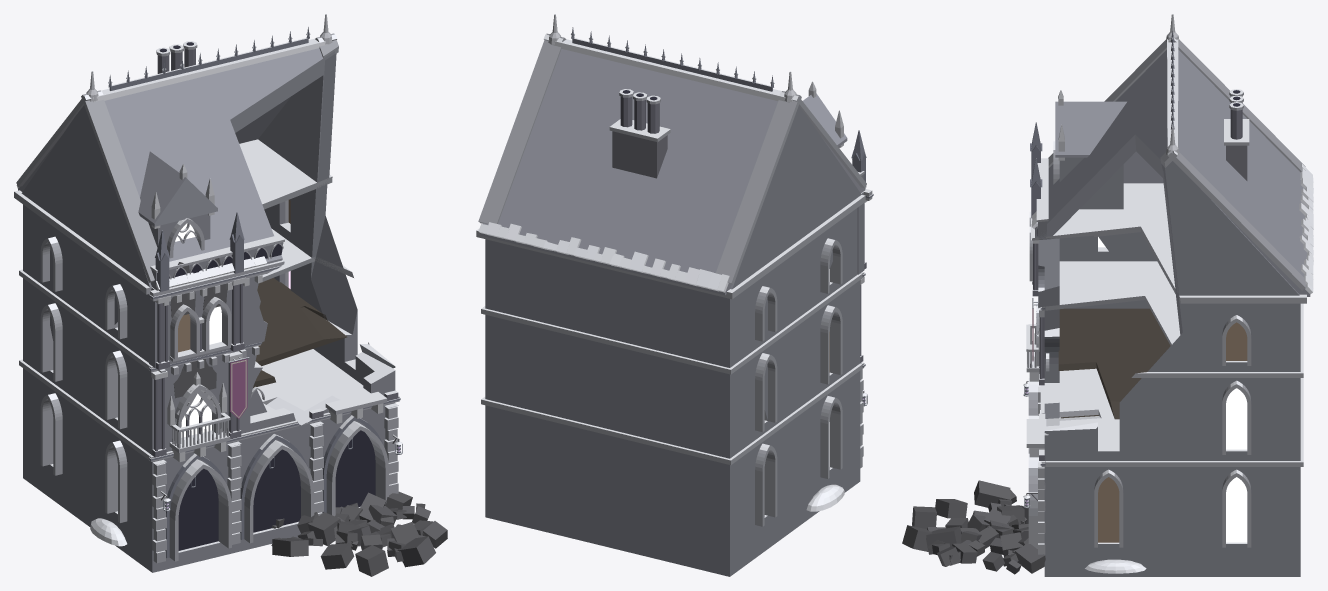
File: AR_Cidade_Arcada_Quebrada.fbx
3 views of the same model, side by side, from view 1: azimuth 30°, elevation 25°; view 2: azimuth 150°, elevation 25°; view 3: azimuth 270°, elevation 25° (orthographic).
Parts seen in each view (by area): view 1: AR_Cidade_Arcada_Quebrada; view 2: AR_Cidade_Arcada_Quebrada; view 3: AR_Cidade_Arcada_Quebrada.
Part boxes in pixels (x1=…): AR_Cidade_Arcada_Quebrada: x1=14, y1=14, x2=447, y2=576; AR_Cidade_Arcada_Quebrada: x1=476, y1=14, x2=873, y2=576; AR_Cidade_Arcada_Quebrada: x1=902, y1=14, x2=1313, y2=576.
Bounding box in the file's own units: 14.7 × 23.16 × 19.31.
